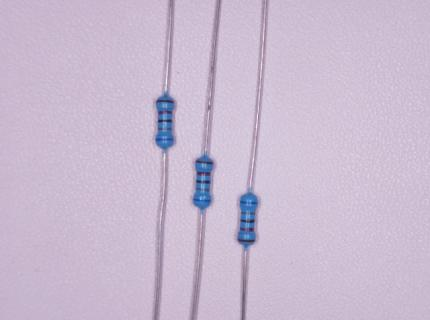Black band: (240, 219, 255, 223), (196, 180, 211, 184), (158, 119, 173, 123)
Blue band: (193, 199, 211, 203), (240, 201, 258, 204), (156, 138, 174, 141)
Brown band: (195, 160, 214, 165), (237, 238, 255, 242), (156, 100, 174, 104)
Grey band: (196, 187, 210, 192), (241, 211, 256, 215), (158, 127, 172, 131)
Red band: (196, 171, 211, 176), (240, 227, 255, 231), (158, 111, 173, 115)
